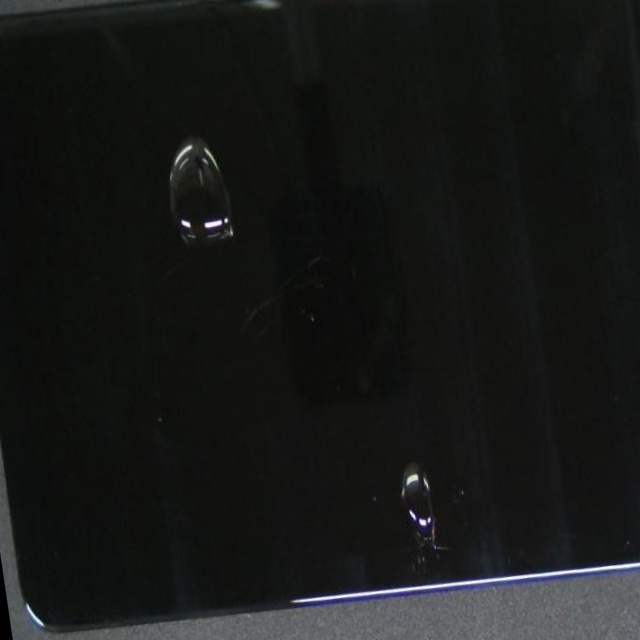oil: (161, 136, 636, 640), (98, 80, 377, 302)
